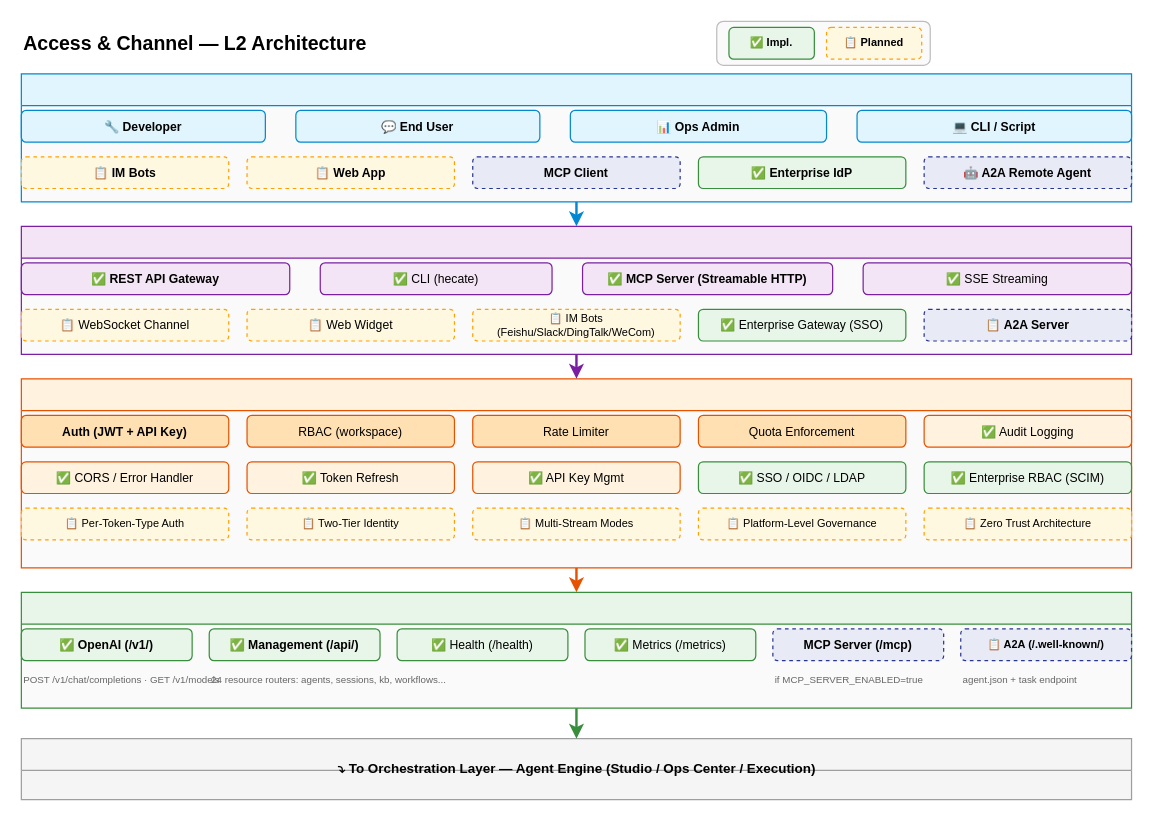
Some shapes in this 1153 by 821 pixel diagram are drawn without their labels. The shapes that lost their labels are listed below. From the top down, each one's box as (x1, y1, x2, y2) in pixels, then its label:
(20, 73, 1132, 202): 1. Consumers & External Systems
(20, 225, 1132, 354): 2. Channel Adapters & Access Gateways
(20, 378, 1132, 568): 3. Gateway Control Plane
(20, 591, 1132, 708): 4. API Surface
